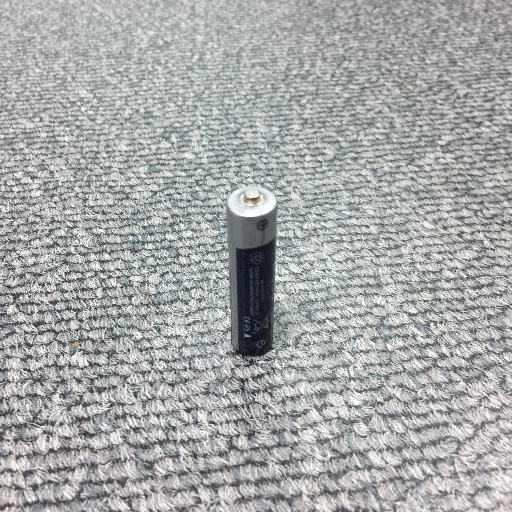Battery_0: (219, 176, 287, 367)
